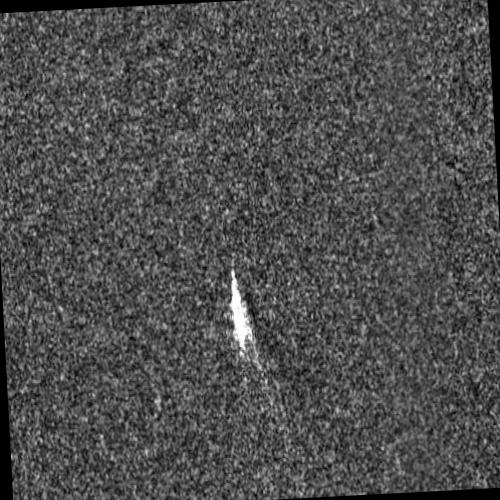ship: (229, 266, 247, 348)
